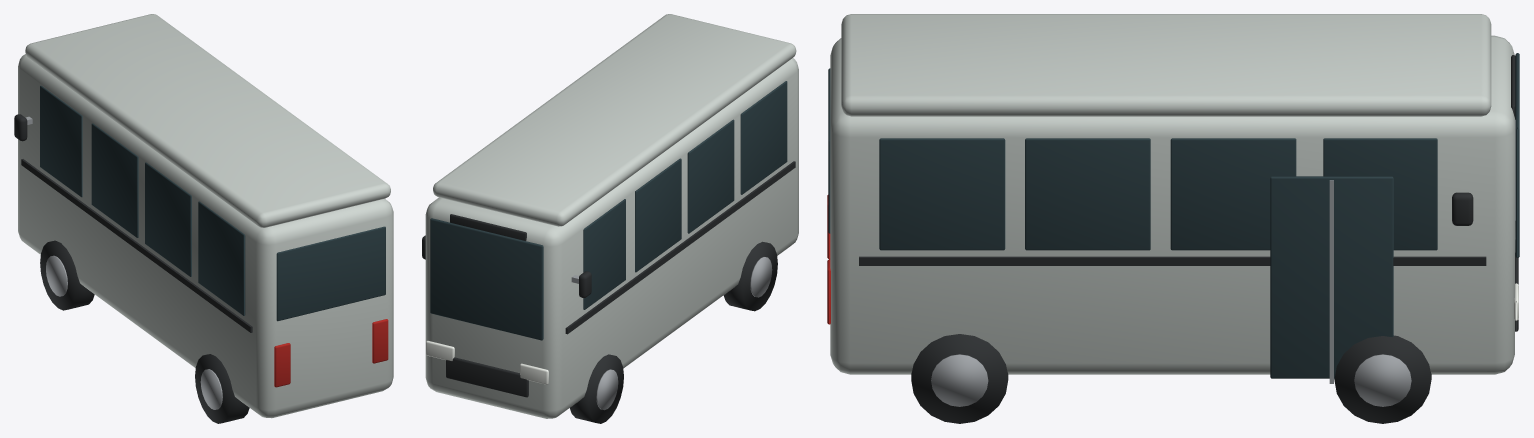
The model's file is shuttlebus-near.glb.
3 renders of one model, left to right at view 1: azimuth 30°, elevation 25°; view 2: azimuth 150°, elevation 25°; view 3: azimuth 270°, elevation 25°, orthographic. The views are drawn at different scales.
Parts seen in each view (by area): view 1: body, WheelRearL, WheelFrontL; view 2: body, WheelFrontL, WheelRearL; view 3: body, WheelRearR, WheelFrontR.
Boxes of the visible parts, box(x1,y1,x2,y2) form: body: box(14, 14, 393, 418); WheelRearL: box(195, 354, 249, 423); WheelFrontL: box(40, 240, 94, 310); body: box(422, 14, 798, 418); WheelFrontL: box(570, 354, 623, 423); WheelRearL: box(723, 241, 777, 311); body: box(827, 14, 1519, 383); WheelRearR: box(911, 334, 1008, 423); WheelFrontR: box(1334, 335, 1431, 423).
Bounding box in the file's own units: 2.1 × 2.85 × 5.56.
